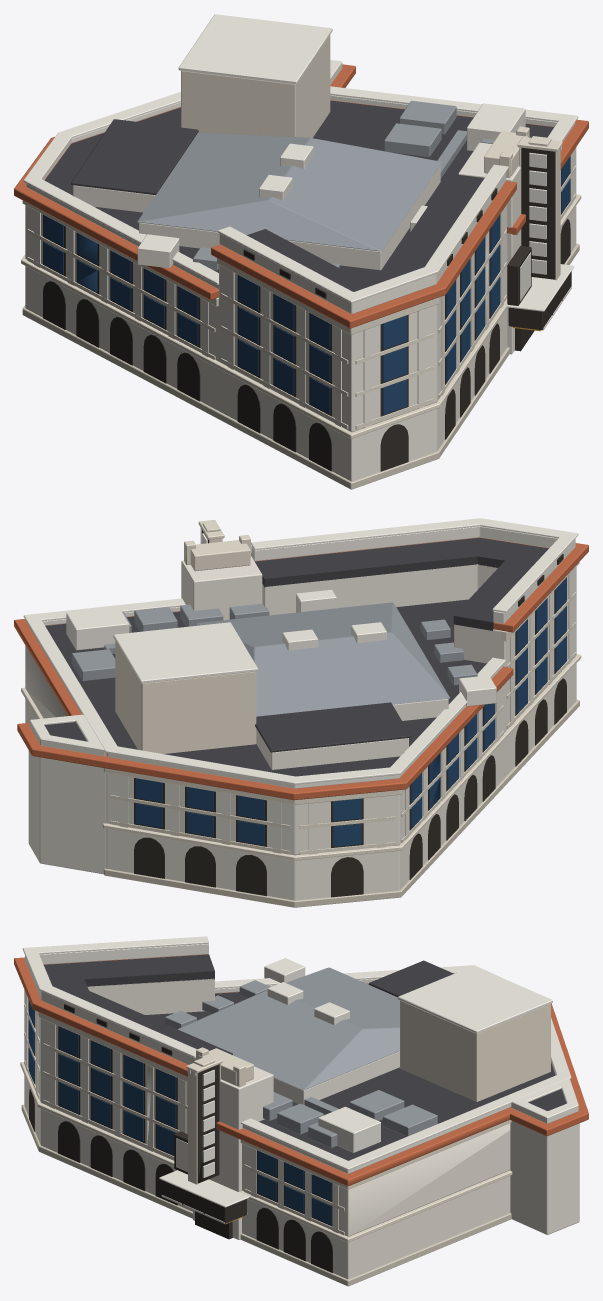
The model's file is orpheum-theatre.optimized.glb.
3 renders of one model, top to bottom at view 1: azimuth 30°, elevation 25°; view 2: azimuth 150°, elevation 25°; view 3: azimuth 270°, elevation 25°, orthographic. The views are drawn at different scales.
Parts seen in each view (by area): view 1: grp_Toy_cream, grp_Toy_trim, grp_Toy_steel, grp_Toy_sand, grp_Toy_ink, grp_Toy_roofd, grp_Toy_glass, grp_Toy_brick, plinth, grp_Toy_white_Glow; view 2: grp_Toy_cream, grp_Toy_trim, grp_Toy_roofd, grp_Toy_sand, grp_Toy_steel, grp_Toy_ink, grp_Toy_brick, grp_Toy_glass, plinth; view 3: grp_Toy_cream, grp_Toy_trim, grp_Toy_sand, grp_Toy_steel, grp_Toy_roofd, grp_Toy_ink, grp_Toy_glass, grp_Toy_brick, plinth, grp_Toy_white_Glow.
Boxes of the visible parts, x1=… form: grp_Toy_cream: x1=25, y1=142, x2=576, y2=481; grp_Toy_trim: x1=23, y1=14, x2=578, y2=314; grp_Toy_steel: x1=137, y1=100, x2=516, y2=270; grp_Toy_sand: x1=21, y1=35, x2=581, y2=438; grp_Toy_ink: x1=43, y1=147, x2=571, y2=471; grp_Toy_roofd: x1=44, y1=100, x2=553, y2=291; grp_Toy_glass: x1=43, y1=156, x2=570, y2=414; grp_Toy_brick: x1=14, y1=64, x2=588, y2=328; plinth: x1=22, y1=243, x2=579, y2=489; grp_Toy_white_Glow: x1=508, y1=144, x2=571, y2=330; grp_Toy_cream: x1=25, y1=556, x2=576, y2=900; grp_Toy_trim: x1=23, y1=518, x2=578, y2=788; grp_Toy_roofd: x1=44, y1=537, x2=548, y2=776; grp_Toy_sand: x1=21, y1=520, x2=581, y2=860; grp_Toy_steel: x1=71, y1=602, x2=477, y2=716; grp_Toy_ink: x1=134, y1=530, x2=566, y2=897; grp_Toy_brick: x1=14, y1=537, x2=588, y2=800; grp_Toy_glass: x1=135, y1=577, x2=566, y2=846; plinth: x1=103, y1=699, x2=579, y2=907; grp_Toy_cream: x1=24, y1=978, x2=579, y2=1279; grp_Toy_trim: x1=22, y1=936, x2=578, y2=1207; grp_Toy_sand: x1=20, y1=1000, x2=550, y2=1242; grp_Toy_steel: x1=165, y1=967, x2=437, y2=1147; grp_Toy_roofd: x1=44, y1=954, x2=566, y2=1160; grp_Toy_ink: x1=29, y1=1004, x2=332, y2=1272; grp_Toy_glass: x1=28, y1=1000, x2=331, y2=1224; grp_Toy_brick: x1=14, y1=954, x2=588, y2=1186; plinth: x1=21, y1=1104, x2=511, y2=1286; grp_Toy_white_Glow: x1=161, y1=1068, x2=247, y2=1223.
Bounding box in the file's own units: 67.65 × 27.2 × 77.62.
